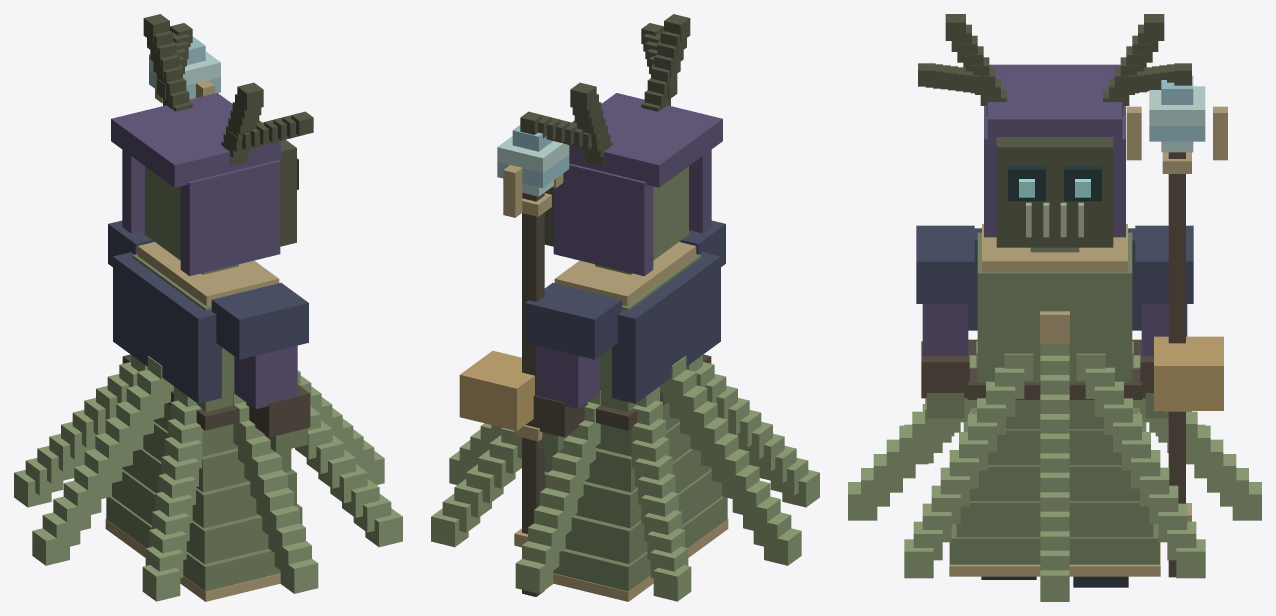
The model's file is masked-forester.glb.
3 renders of one model, left to right at view 1: azimuth 30°, elevation 25°; view 2: azimuth 150°, elevation 25°; view 3: azimuth 270°, elevation 25°, orthographic. The views are drawn at different scales.
Visible parts, largest first — view 1: LivingMantle, Hood, Robe, Mantle, Shoulders, Antler, Collar, Sleeves, AntlerFork, Head, Bracers, WoodMask (+5 smaller); view 2: LivingMantle, Hood, Robe, Mantle, Shoulders, Bell, StaffShaft, Antler, Collar, StaffCrystal, Sleeves, AntlerFork (+7 smaller); view 3: LivingMantle, Robe, Torso, Hood, WoodMask, Shoulders, Bell, StaffShaft, Antler, Collar, Sleeves, StaffCrystal (+13 smaller).
Boxes of the visible parts, x1,y1,x2,y2 form: LivingMantle: (14,355,402,601); Hood: (111,93,280,276); Robe: (106,403,306,591); Mantle: (113,252,221,403); Shoulders: (108,220,308,359); Antler: (143,14,263,165); Collar: (137,242,279,306); Sleeves: (234,345,297,408); AntlerFork: (156,23,313,151); Head: (144,166,180,260); Bracers: (246,384,310,437); WoodMask: (259,120,296,246); LivingMantle: (431,355,819,601); Hood: (553,93,722,276); Robe: (544,403,727,591); Mantle: (612,252,720,403); Shoulders: (525,220,725,359); Bell: (459,350,534,430); StaffShaft: (522,193,544,596); Antler: (570,14,690,165); Collar: (554,242,696,306); StaffCrystal: (497,125,569,196); Sleeves: (536,345,599,408); AntlerFork: (520,23,677,151); LivingMantle: (848,341,1261,601); Robe: (950,400,1159,564); Torso: (977,232,1132,382); Hood: (984,64,1125,237); WoodMask: (996,137,1113,247); Shoulders: (916,225,1193,303); Bell: (1154,336,1223,410); StaffShaft: (1168,152,1185,577); Antler: (945,14,1164,116); Collar: (982,224,1127,271); Sleeves: (922,304,1187,356); StaffCrystal: (1149,75,1205,152).
Bounding box in the file's own units: 7.1 × 10.27 × 7.1.
